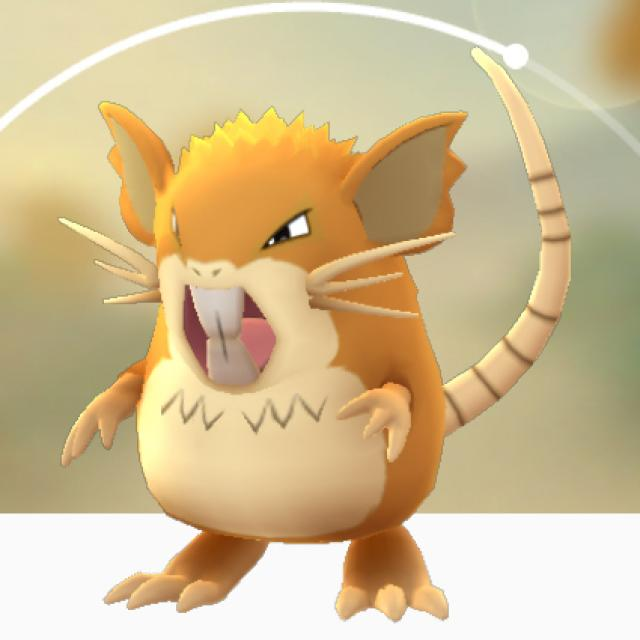Raticate: (88, 95, 484, 623)
